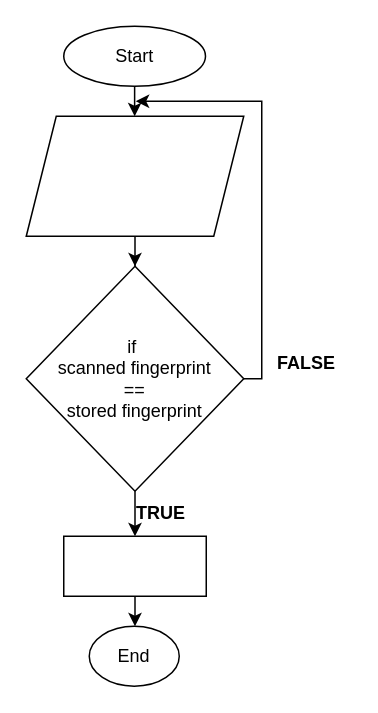
The diagram is 378 pixels wide and 713 high, and some of its shapes have lost their labels. Here are the shapes that lost their labels. From the top down, the centre of each, then its label:
the point at 134,175: Scan your fingerprint to unlock
the point at 134,565: unlock the lock
